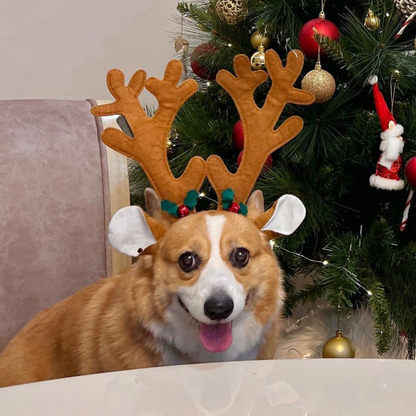Corgi: (89, 196, 319, 381)
